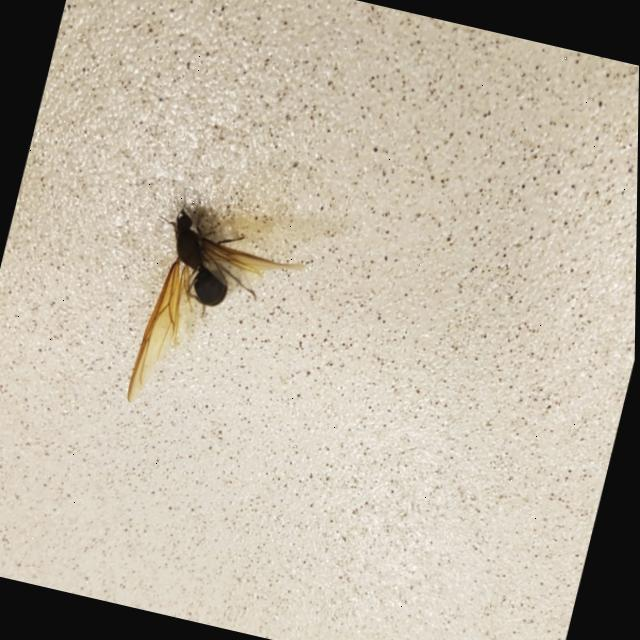Alive-Female-Alate: (115, 183, 318, 434)
